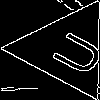U: (41, 24, 100, 79)
